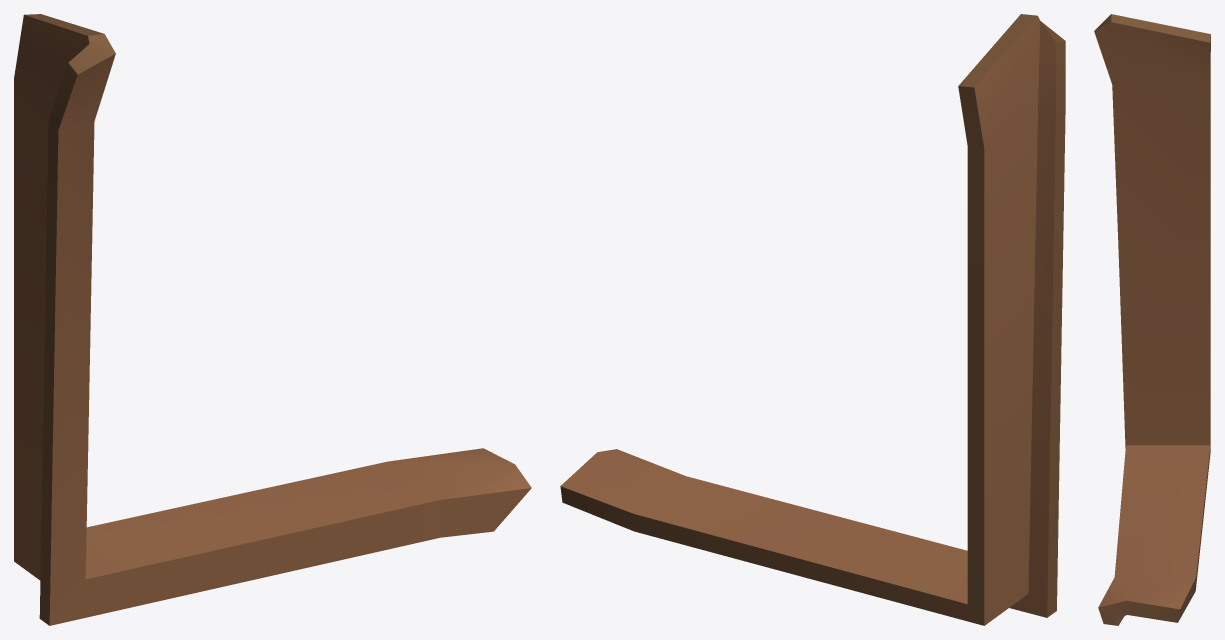
File: DBK_WinBig_Trim_A_End.fbx
3 views of the same model, side by side, from view 1: azimuth 30°, elevation 25°; view 2: azimuth 150°, elevation 25°; view 3: azimuth 270°, elevation 25° (orthographic). The views are drawn at different scales.
Visible parts, largest first — view 1: DBK_WinBig_Trim_A_End; view 2: DBK_WinBig_Trim_A_End; view 3: DBK_WinBig_Trim_A_End.
Part boxes in pixels (x1,y1,x2,y2): DBK_WinBig_Trim_A_End: [14, 14, 531, 625]; DBK_WinBig_Trim_A_End: [560, 14, 1065, 625]; DBK_WinBig_Trim_A_End: [1094, 14, 1210, 625].
Size of the model in its own units: 96.13 by 116 by 26.74.
